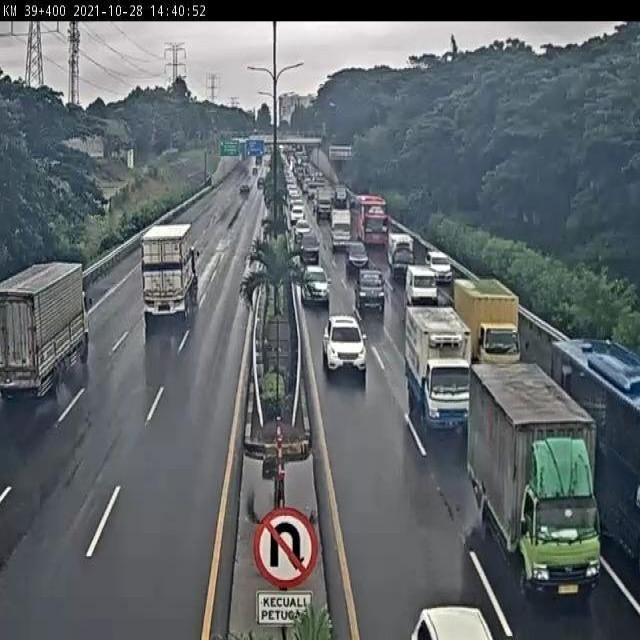big truck: (141, 220, 197, 319)
car: (324, 314, 366, 378), (403, 263, 440, 308), (301, 263, 330, 308), (354, 266, 384, 306), (426, 249, 455, 284), (345, 239, 367, 269)
truck-m-: (469, 362, 603, 594), (0, 258, 89, 402), (404, 304, 476, 432), (453, 274, 523, 366)
truck-s-: (385, 232, 417, 279)
